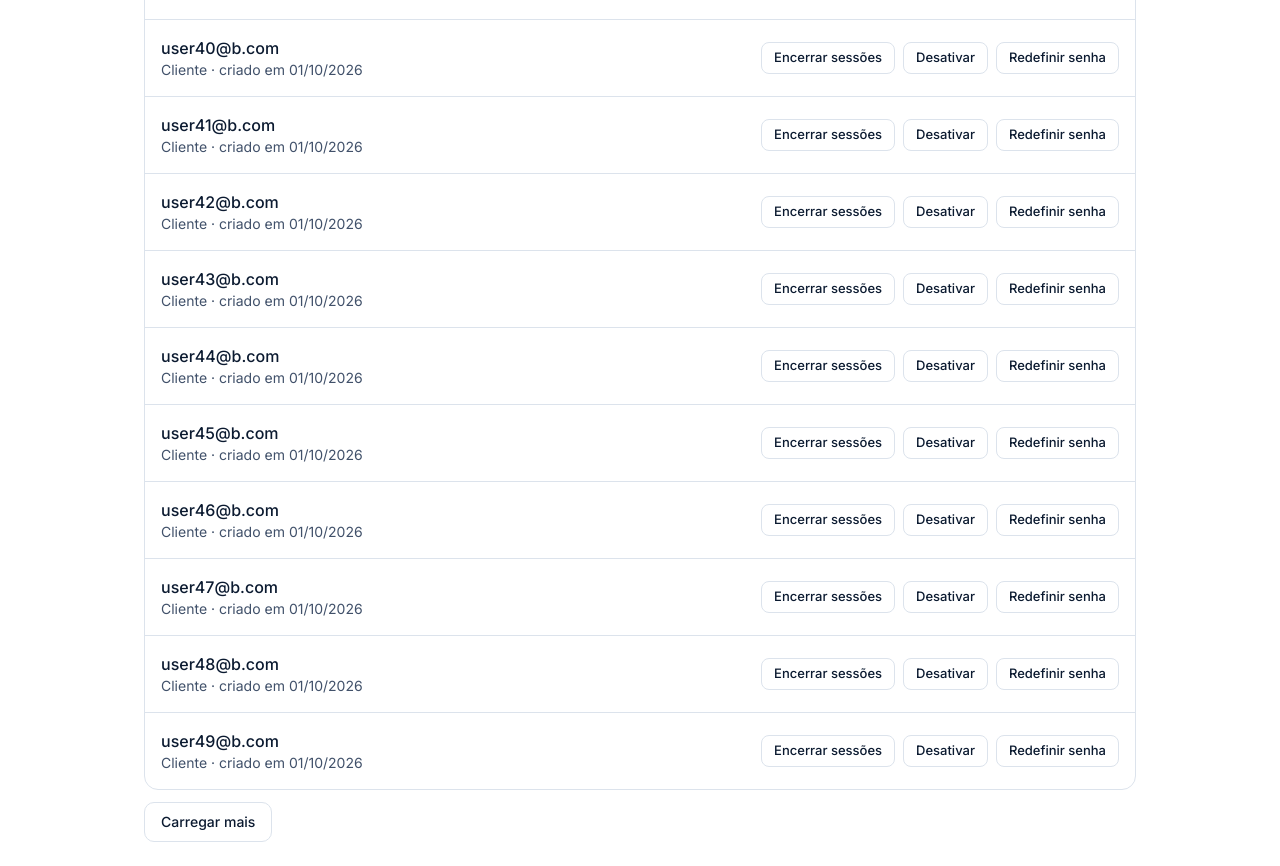
it: UsersAdmin list controls › loads more pages with offset until a short page
The image size is (1280, 866).
(page scrolled)
Step 1. Click the button "Carregar mais" → (208, 822), box [144,802,272,842]
(page scrolled)
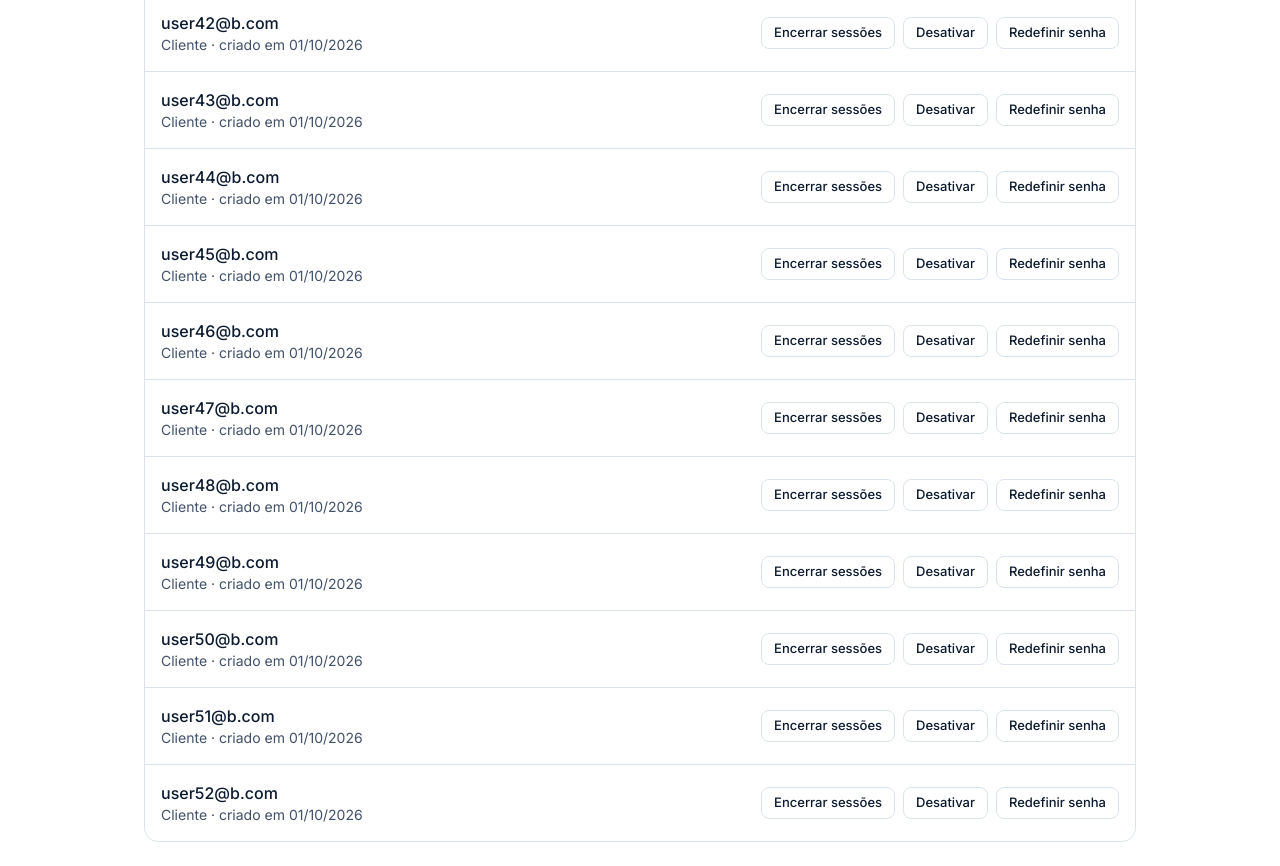
Now the text "user52@b.com" is shown, box [161,783,278,803]
Now the button "Carregar mais" is gone
